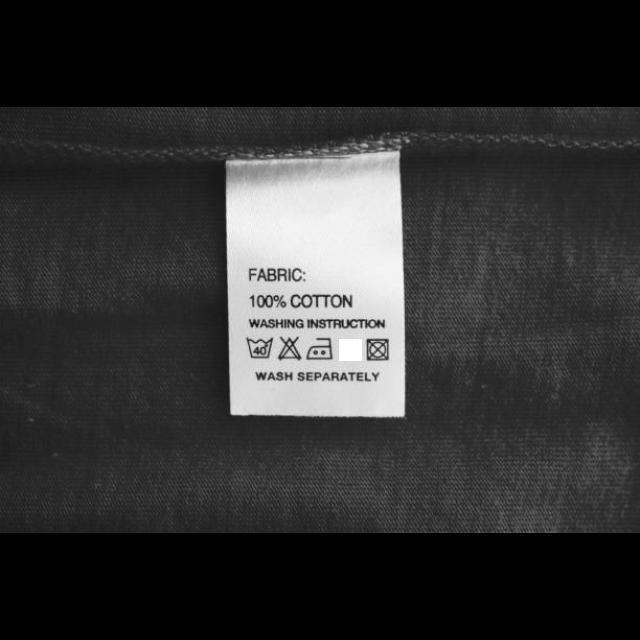40C: (244, 336, 276, 362)
DN_bleach: (275, 334, 303, 362)
DN_tumble_dry: (364, 338, 390, 362)
iron_medium: (304, 336, 336, 364)
